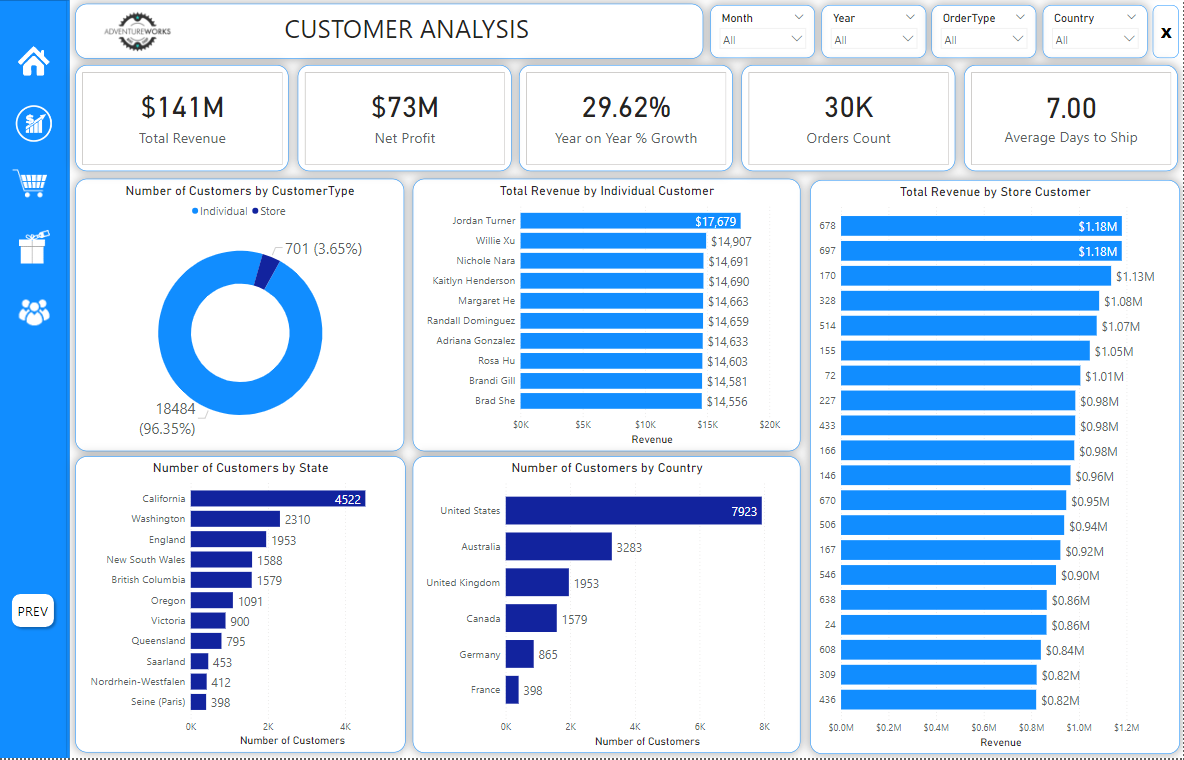

The page's visual inventory and layout, read from the dashboard file:
{"tool":"powerbi","page":{"name":"Sales by Customers","canvas":[2000,1280],"ordinal":4},"visuals":[{"type":"group","id":"g1","title":"Group 1","box":[129.3,6.4,1059.6,92.9],"z":0,"group":"g2"},{"type":"textbox","box":[129.3,6.4,1059.6,92.9],"z":0,"group":"g1"},{"type":"image","box":[21.4,68.2,75,70],"z":0,"group":"g4"},{"type":"image","box":[15,170.7,88,75],"z":0,"group":"g5"},{"type":"image","box":[15.8,274.3,70.7,70.7],"z":0,"group":"g6"},{"type":"clusteredBarChart","title":"Total Revenue by Individual Customer","fields":{"Category":["DimCustomer.FullName"],"Y":["Sum(DimCustomer.Total_Amount)"]},"box":[698.7,301.9,654.4,460.2],"z":0},{"type":"image","box":[27.2,495.1,63.4,63.4],"z":0,"group":"g3"},{"type":"slicer","title":"Month","fields":{"Values":["DimDate.Date.Variation.Date Hierarchy.Month"]},"box":[1200,8.3,177.1,89.6],"z":1000},{"type":"image","box":[160.6,13.9,146.9,77.8],"z":1000,"group":"g1"},{"type":"group","id":"g2","title":"Group 2","box":[129.3,6.4,1059.6,92.9],"z":2000},{"type":"donutChart","title":"Number of Customers by CustomerType","fields":{"Category":["DimCustomer.Customer Type In Full"],"Y":["_Measures.Number of Customers"]},"box":[128.8,301.9,555.2,460.2],"z":3000},{"type":"shape","box":[0,0,119.5,1280.5],"z":4000},{"type":"shape","box":[0,0,115,1281.3],"z":5000},{"type":"slicer","fields":{"Values":["FactSales.OrderType"]},"box":[1575,8.3,177.1,89.6],"z":6000},{"type":"clusteredBarChart","title":"Number of Customers by State","fields":{"Category":["Query1.StateName"],"Y":["CountNonNull(DimCustomer.CustomerID)"]},"box":[128.8,770.5,557.3,500.3],"z":7000},{"type":"slicer","fields":{"Values":["DimDate.Date.Variation.Date Hierarchy.Year"]},"box":[1387.5,8.3,177.1,89.6],"z":8000},{"type":"group","id":"g3","title":"Group 3","box":[27.2,495.1,63.4,63.4],"z":9000},{"type":"group","id":"g4","title":"Group 4","box":[21.4,68.2,75,70],"z":10000},{"type":"clusteredBarChart","title":"Number of Customers by Country","fields":{"Category":["DimCustomer.Country"],"Y":["CountNonNull(DimCustomer.CustomerID)"]},"box":[699.3,770.6,654.8,501.1],"z":11000},{"type":"group","id":"g5","title":"Group 5","box":[15,170.7,87.8,73.2],"z":12000},{"type":"clusteredBarChart","title":"Total Revenue by Store Customer","fields":{"Y":["Sum(DimCustomer.Total_Amount)"],"Category":["DimCustomer.CustomerID"]},"box":[1369.7,302.9,623.6,968.8],"z":13000},{"type":"group","id":"g6","title":"Group 6","box":[15.8,274.3,70.7,70.7],"z":14000},{"type":"image","box":[16.3,382.9,85.4,70.7],"z":15000},{"type":"actionButton","box":[1947.9,8.3,43.8,89.6],"z":16000},{"type":"shape","box":[13.4,993.3,89.1,73.5],"z":17000},{"type":"slicer","fields":{"Values":["DimSalesTerritory.Name"]},"box":[1762.5,8.3,177.1,89.6],"z":18000},{"type":"cardVisual","title":"Total Revenue","fields":{"Data":["FactSales.Total Revenue"]},"box":[128.4,110.4,360,179.4],"z":19000},{"type":"cardVisual","title":"Total Revenue","fields":{"Data":["FactSales.OrdercOunt"]},"box":[1253.9,110.4,360.4,179.2],"z":20000},{"type":"cardVisual","title":"Total Revenue","fields":{"Data":["_Measures.YOY%"]},"box":[878.6,110.4,360.4,179.2],"z":21000},{"type":"cardVisual","title":"Total Revenue","fields":{"Data":["FactSales.Net Profit"]},"box":[503.3,110.4,360.4,179.2],"z":22000},{"type":"cardVisual","title":"Total Revenue","fields":{"Data":["FactSales.Avg. Days to Ship"]},"box":[1629.2,110.4,360.4,179.2],"z":23000}]}

Visuals, with their boxes on the page's 2000x1280 design canvas (x1, y1, x2, y2). These are canvas units, not pixel positions in the 1184x760 screenshot, which may show the page scaled, cropped or inside an application window:
"Group 1" group: 129/6/1189/99
textbox: 129/6/1189/99
image: 21/68/96/138
image: 15/171/103/246
image: 16/274/86/345
"Total Revenue by Individual Customer" clusteredBarChart: 699/302/1353/762
image: 27/495/91/558
"Month" slicer: 1200/8/1377/98
image: 161/14/308/92
"Group 2" group: 129/6/1189/99
"Number of Customers by CustomerType" donutChart: 129/302/684/762
shape: 0/0/120/1280
shape: 0/0/115/1281
slicer - FactSales.OrderType: 1575/8/1752/98
"Number of Customers by State" clusteredBarChart: 129/770/686/1271
slicer - DimDate.Date.Variation.Date Hierarchy.Year: 1388/8/1565/98
"Group 3" group: 27/495/91/558
"Group 4" group: 21/68/96/138
"Number of Customers by Country" clusteredBarChart: 699/771/1354/1272
"Group 5" group: 15/171/103/244
"Total Revenue by Store Customer" clusteredBarChart: 1370/303/1993/1272
"Group 6" group: 16/274/86/345
image: 16/383/102/454
actionButton: 1948/8/1992/98
shape: 13/993/102/1067
slicer - DimSalesTerritory.Name: 1762/8/1940/98
"Total Revenue" cardVisual: 128/110/488/290
"Total Revenue" cardVisual: 1254/110/1614/290
"Total Revenue" cardVisual: 879/110/1239/290
"Total Revenue" cardVisual: 503/110/864/290
"Total Revenue" cardVisual: 1629/110/1990/290
